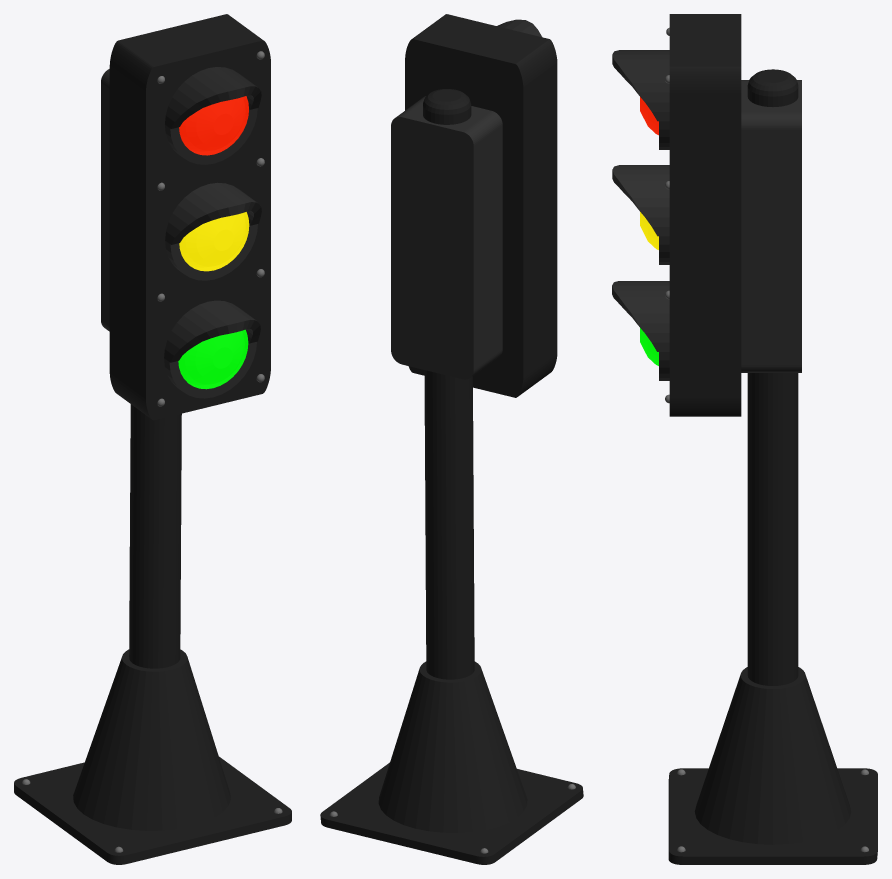
3 renders of one model, left to right at view 1: azimuth 30°, elevation 25°; view 2: azimuth 150°, elevation 25°; view 3: azimuth 270°, elevation 25°, orthographic. The views are drawn at different scales.
Visible parts, largest first — view 1: Sphere.006; view 2: Sphere.006; view 3: Sphere.006.
Part boxes in pixels (x1,y1,x2,y2): Sphere.006: [14, 14, 291, 864]; Sphere.006: [320, 14, 583, 864]; Sphere.006: [612, 14, 877, 864].
Size of the model in its own units: 1.46 by 6.03 by 1.86.
4 materials, 4 textured.
